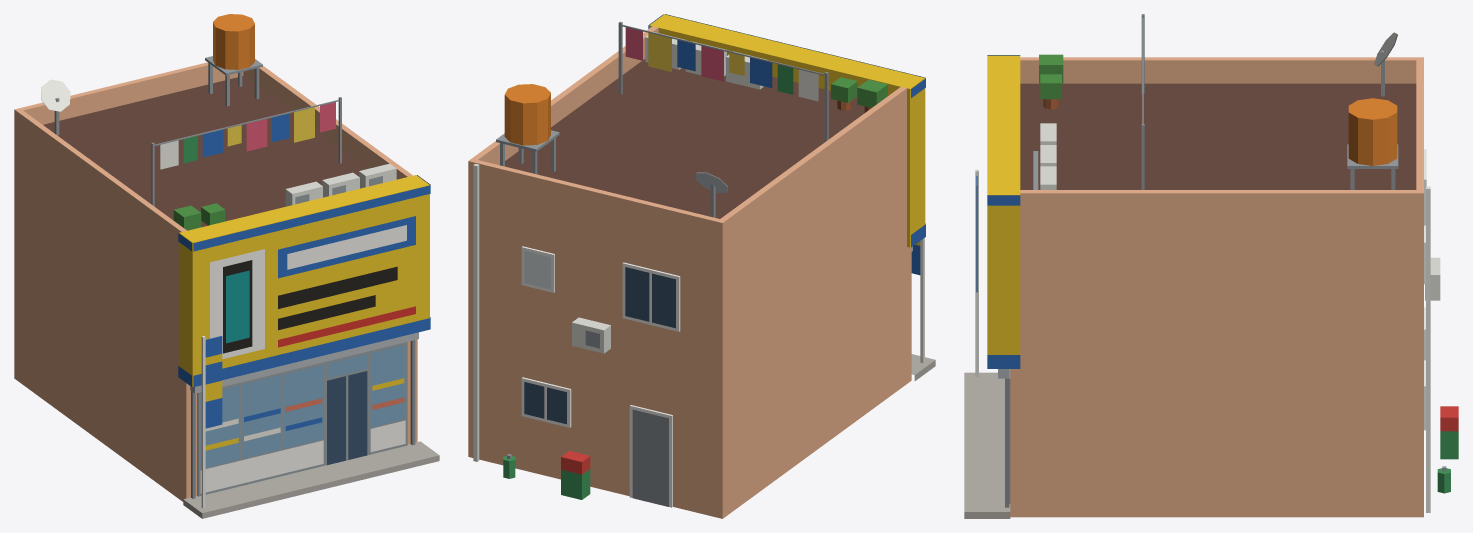
File: toko_07.glb
3 views of the same model, side by side, from view 1: azimuth 30°, elevation 25°; view 2: azimuth 150°, elevation 25°; view 3: azimuth 270°, elevation 25° (orthographic). The views are drawn at different scales.
Parts seen in each view (by area): view 1: toko_07; view 2: toko_07; view 3: toko_07.
Boxes of the visible parts, x1,y1,x2,y2 form: toko_07: (14, 14, 439, 518); toko_07: (468, 14, 935, 518); toko_07: (964, 14, 1458, 518).
Bounding box in the file's own units: 6.5 × 8.4 × 9.68.
